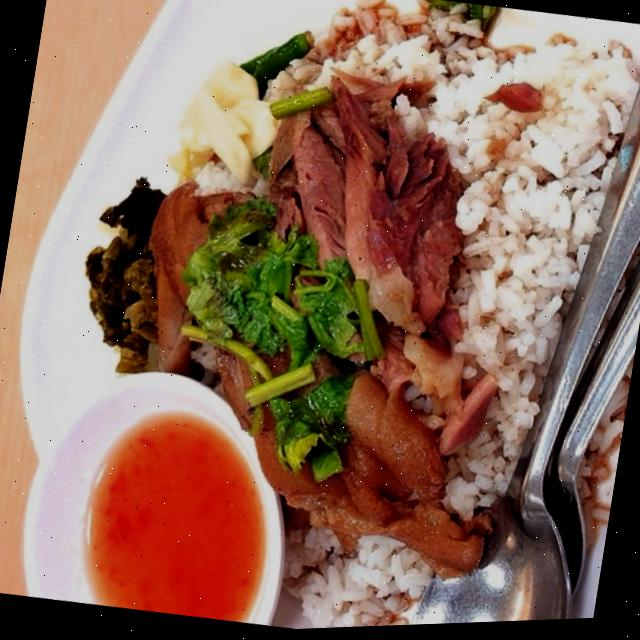猪肉菜式: (9, 0, 640, 640)
